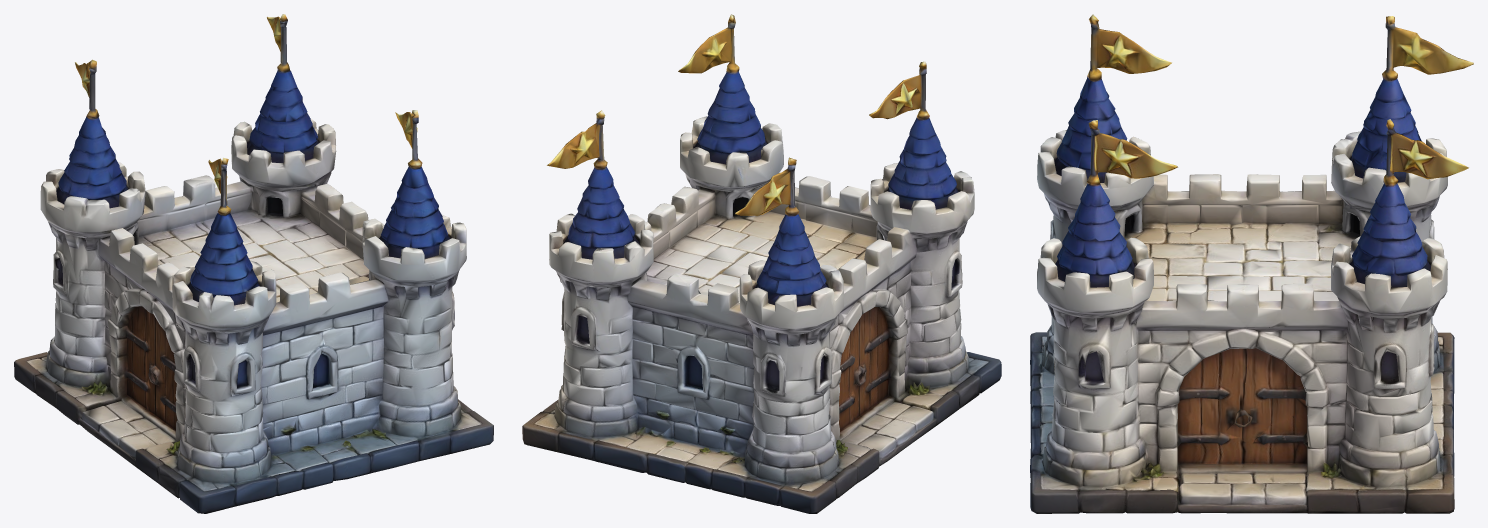
The model's file is stronghold-high.glb.
The picture shows the model from 3 angles, left to right: view 1: azimuth 30°, elevation 25°; view 2: azimuth 150°, elevation 25°; view 3: azimuth 270°, elevation 25°; orthographic projection. The views are drawn at different scales.
Visible parts, largest first — view 1: tripo_node_7bb1924c-1af9-4d30-9045-656bc50eccb8; view 2: tripo_node_7bb1924c-1af9-4d30-9045-656bc50eccb8; view 3: tripo_node_7bb1924c-1af9-4d30-9045-656bc50eccb8.
Boxes of the visible parts, box(x1,y1,x2,y2) form: tripo_node_7bb1924c-1af9-4d30-9045-656bc50eccb8: box(14, 14, 493, 513); tripo_node_7bb1924c-1af9-4d30-9045-656bc50eccb8: box(522, 14, 1001, 513); tripo_node_7bb1924c-1af9-4d30-9045-656bc50eccb8: box(1030, 14, 1473, 513).
Bounding box in the file's own units: 0.8655 × 0.9095 × 0.9993.
Materials: 1 (1 with a texture image).
